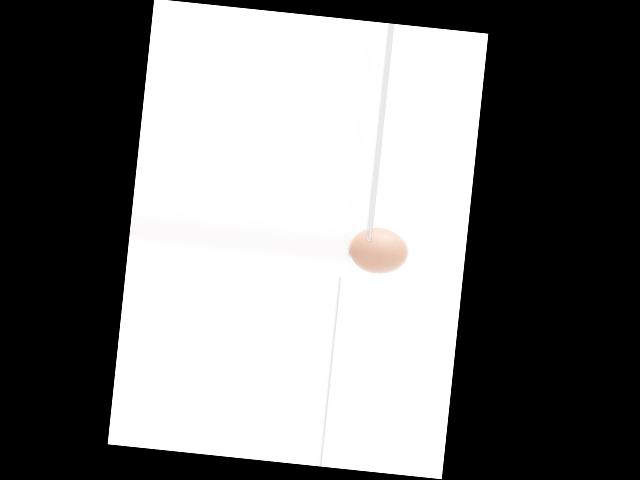egg: (348, 224, 410, 275)
